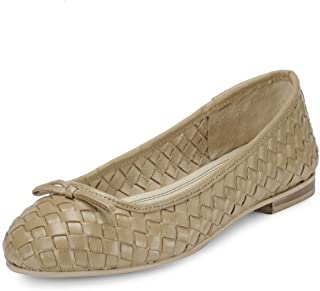shoes: (4, 64, 320, 281)
